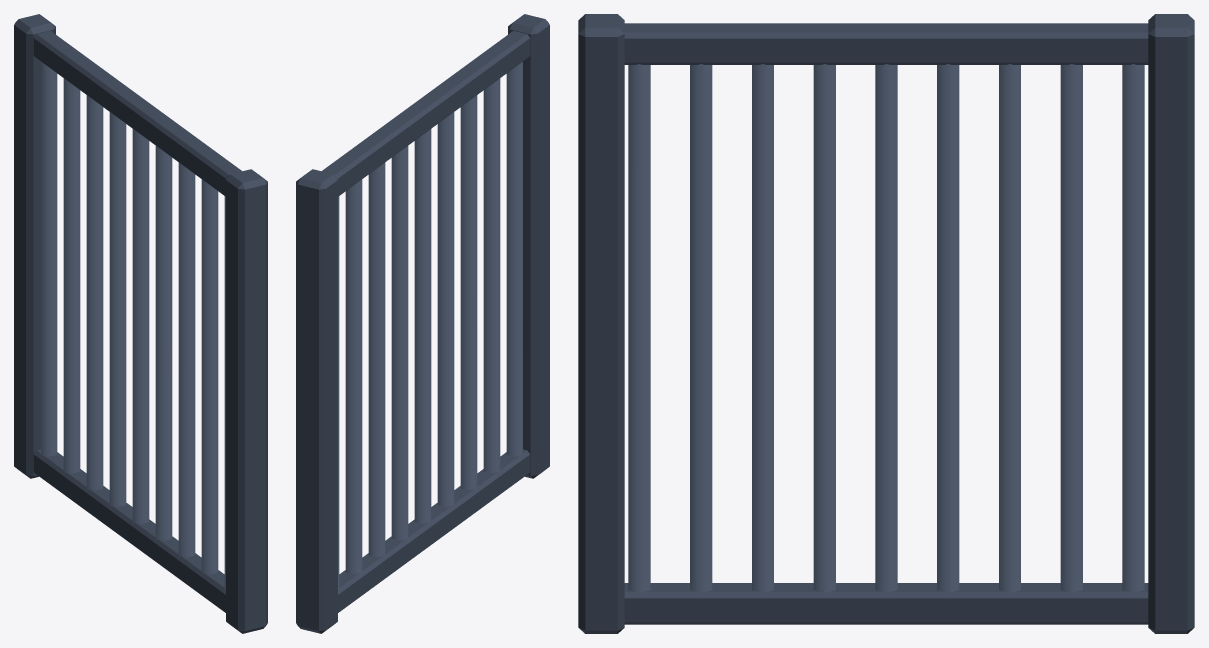
Rendered from prop_bars_6c4b.glb.
3 views of the same model, side by side, from view 1: azimuth 30°, elevation 25°; view 2: azimuth 150°, elevation 25°; view 3: azimuth 270°, elevation 25° (orthographic). The views are drawn at different scales.
Visible parts, largest first — view 1: prop_bars_6c4b; view 2: prop_bars_6c4b; view 3: prop_bars_6c4b.
Boxes of the visible parts, left/top/right/bottom form: prop_bars_6c4b: left=14, top=14, right=267, bottom=633; prop_bars_6c4b: left=296, top=14, right=549, bottom=633; prop_bars_6c4b: left=578, top=14, right=1194, bottom=633.
Bounding box in the file's own units: 0.0796 × 1.15 × 1.06.
Materials: 1 (1 with a texture image).
